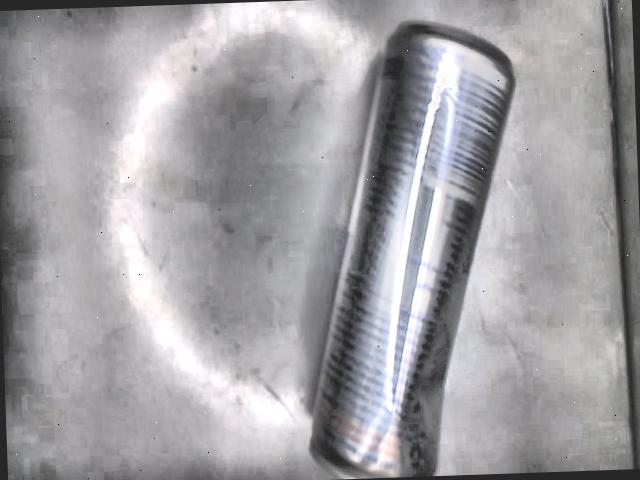Bottles: (311, 23, 517, 479)
